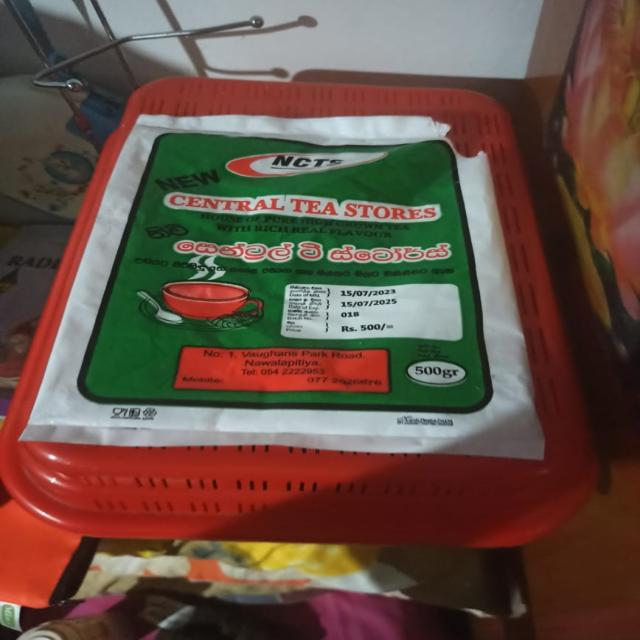Central Tea: (0, 31, 535, 472)
